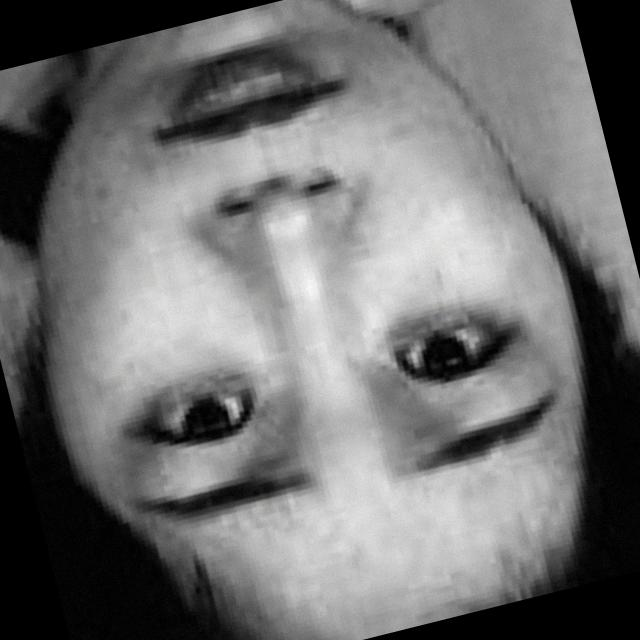sad: (6, 0, 603, 615)
